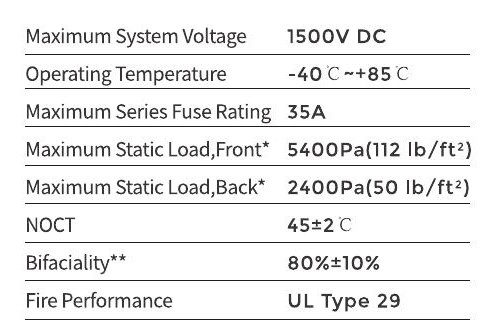table: (9, 11, 478, 325)
table column: (18, 16, 278, 326), (283, 17, 473, 324)
table row: (17, 169, 477, 201), (16, 246, 478, 277), (17, 133, 477, 164), (17, 208, 477, 239), (17, 286, 478, 316), (15, 21, 474, 51), (15, 60, 476, 87), (16, 96, 477, 123)
